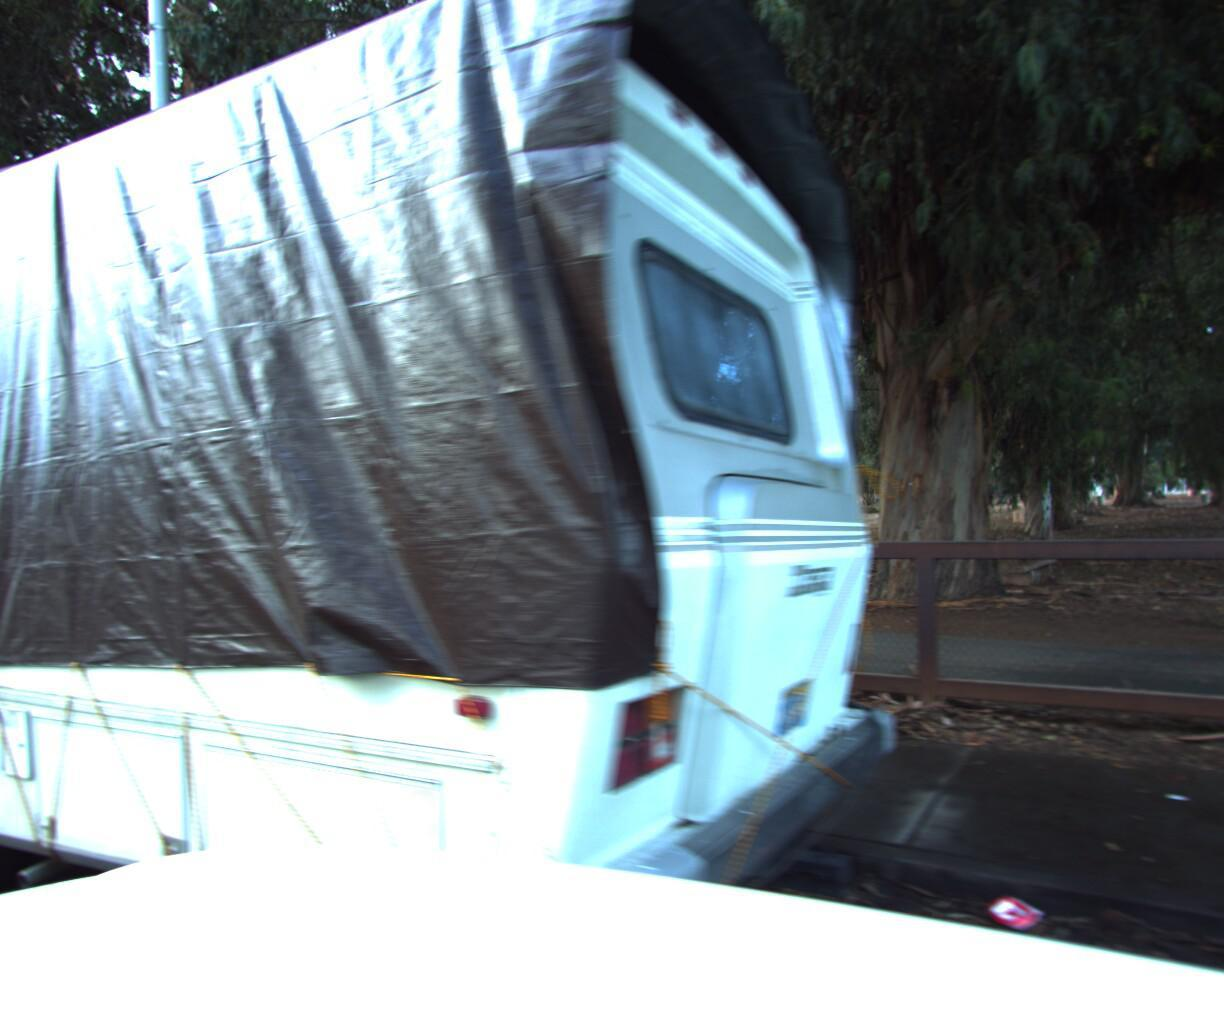other_vehicle: (0, 0, 934, 1024)
